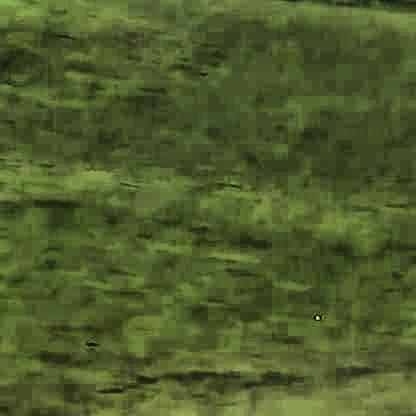golfball: (312, 312, 316, 316)
